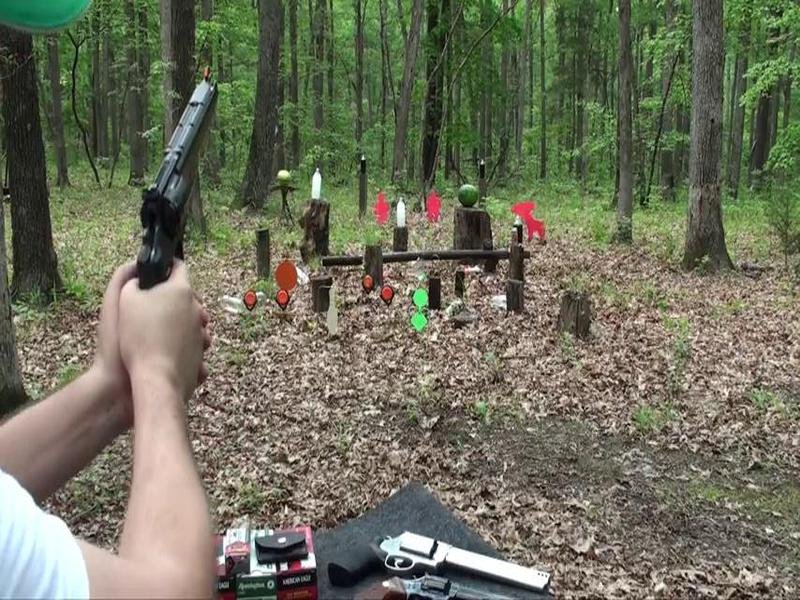Revolver: (118, 68, 232, 314)
